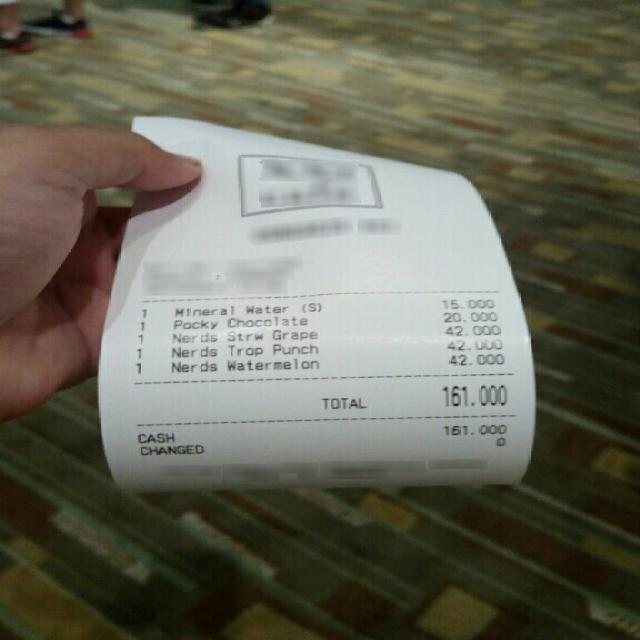kertas: (98, 112, 536, 489)
